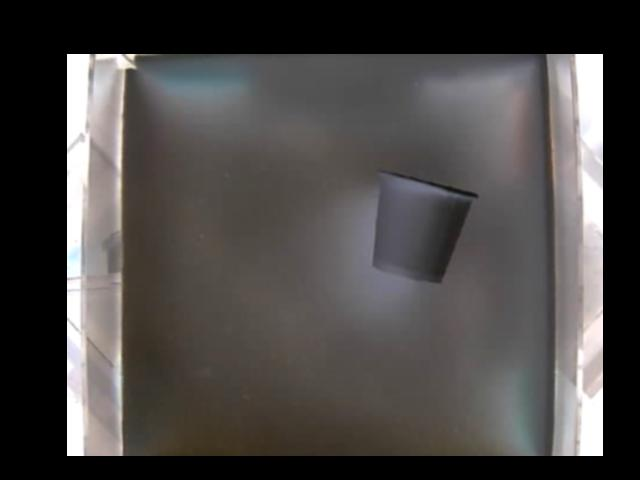Cup: (369, 172, 479, 285)
